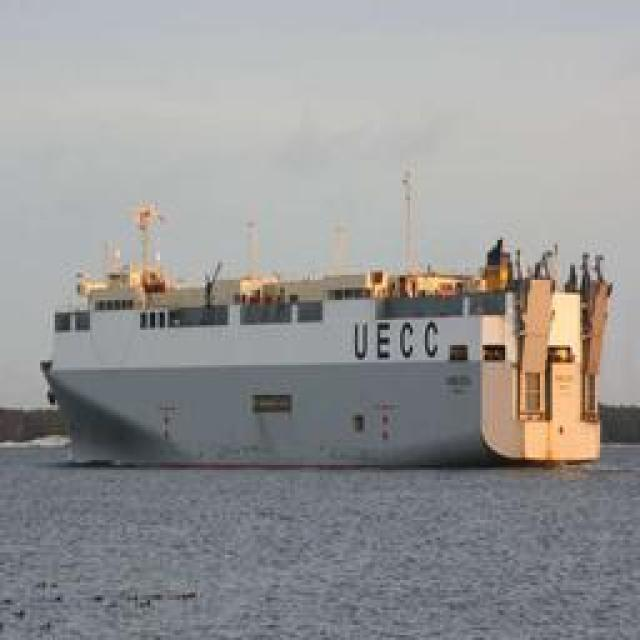Ship: (36, 202, 614, 465)
